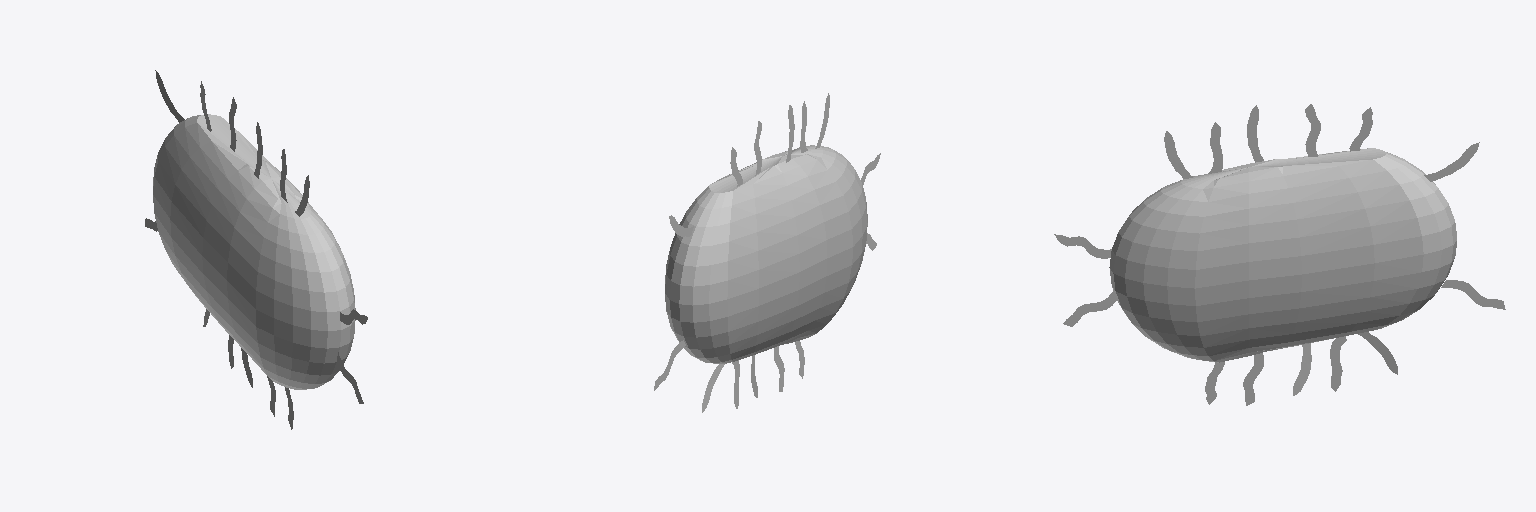
File: Symbiont2.obj
3 renders of one model, left to right at view 1: azimuth 30°, elevation 25°; view 2: azimuth 150°, elevation 25°; view 3: azimuth 270°, elevation 25°, orthographic.
Visible parts, largest first — view 1: Plane.003; view 2: Plane.003; view 3: Plane.003.
Boxes of the visible parts, box(x1,y1,x2,y2) form: Plane.003: box(145, 70, 367, 429); Plane.003: box(654, 93, 880, 412); Plane.003: box(1054, 104, 1505, 405).
Bounding box in the file's own units: 1 × 3.22 × 4.42.